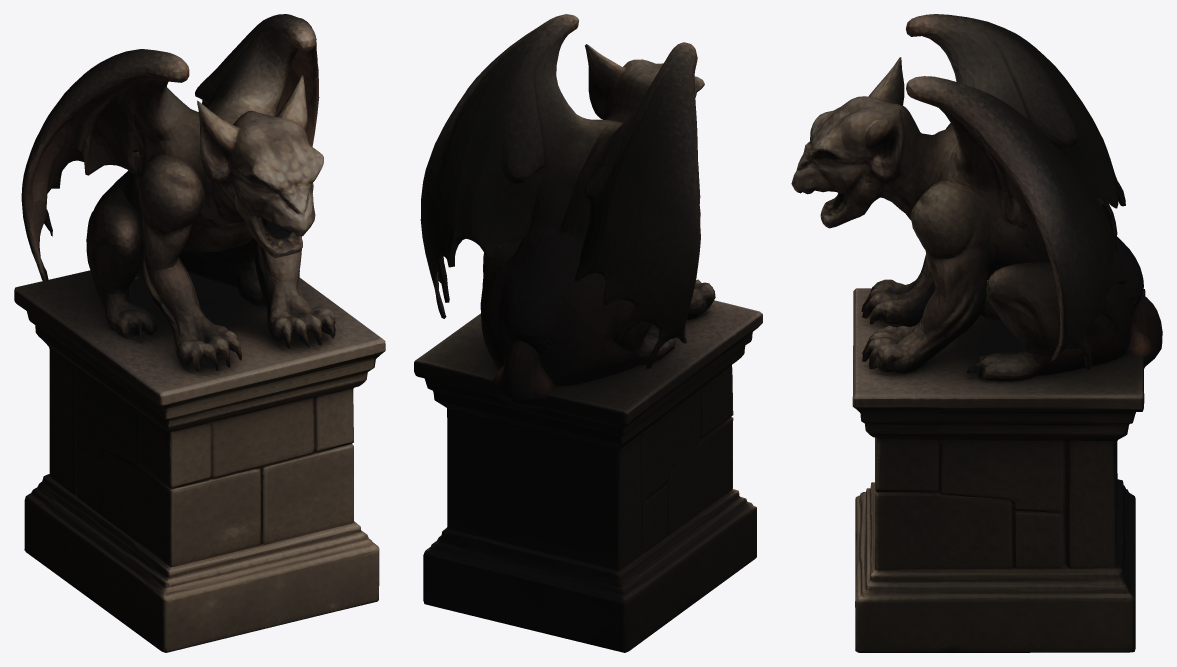
The model's file is column_gargoyle.glb.
The picture shows the model from 3 angles, left to right: view 1: azimuth 30°, elevation 25°; view 2: azimuth 150°, elevation 25°; view 3: azimuth 270°, elevation 25°; orthographic projection. The views are drawn at different scales.
Parts seen in each view (by area): view 1: world; view 2: world; view 3: world.
Boxes of the visible parts, x1=… form: world: x1=14, y1=14, x2=385, y2=652; world: x1=414, y1=14, x2=762, y2=652; world: x1=791, y1=14, x2=1162, y2=652.
Bounding box in the file's own units: 0.5487 × 1 × 0.6065.
1 material, 1 textured.
